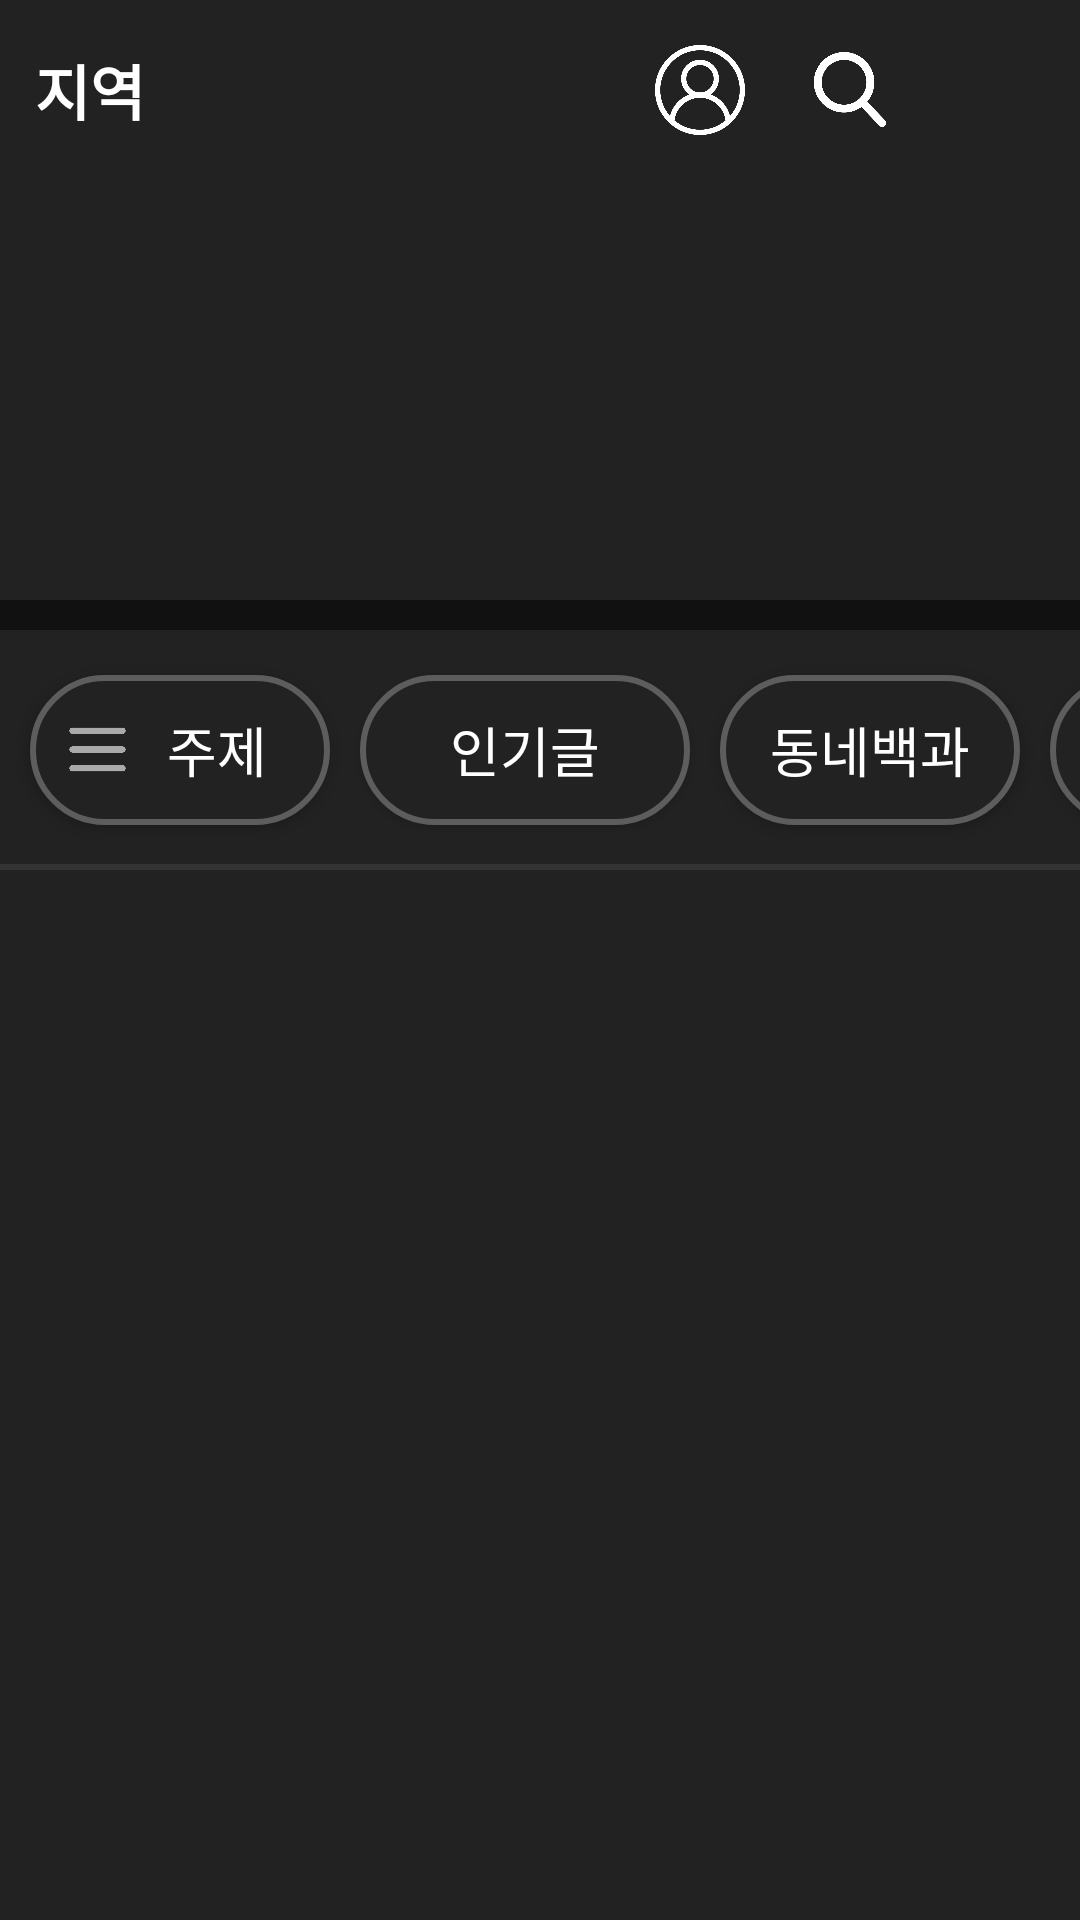

Named icons in this screenshot (1080px×1920px) and their centers, point (x, y):
search: point (850, 89)
user: point (700, 90)
